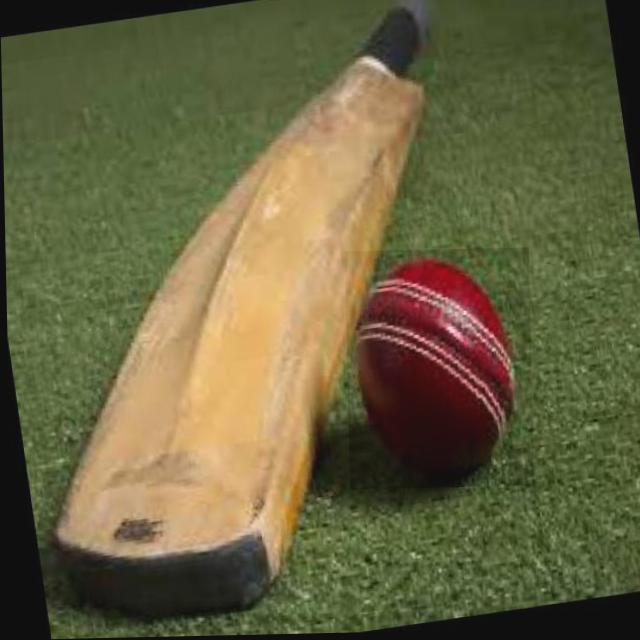-: (344, 250, 532, 491)
